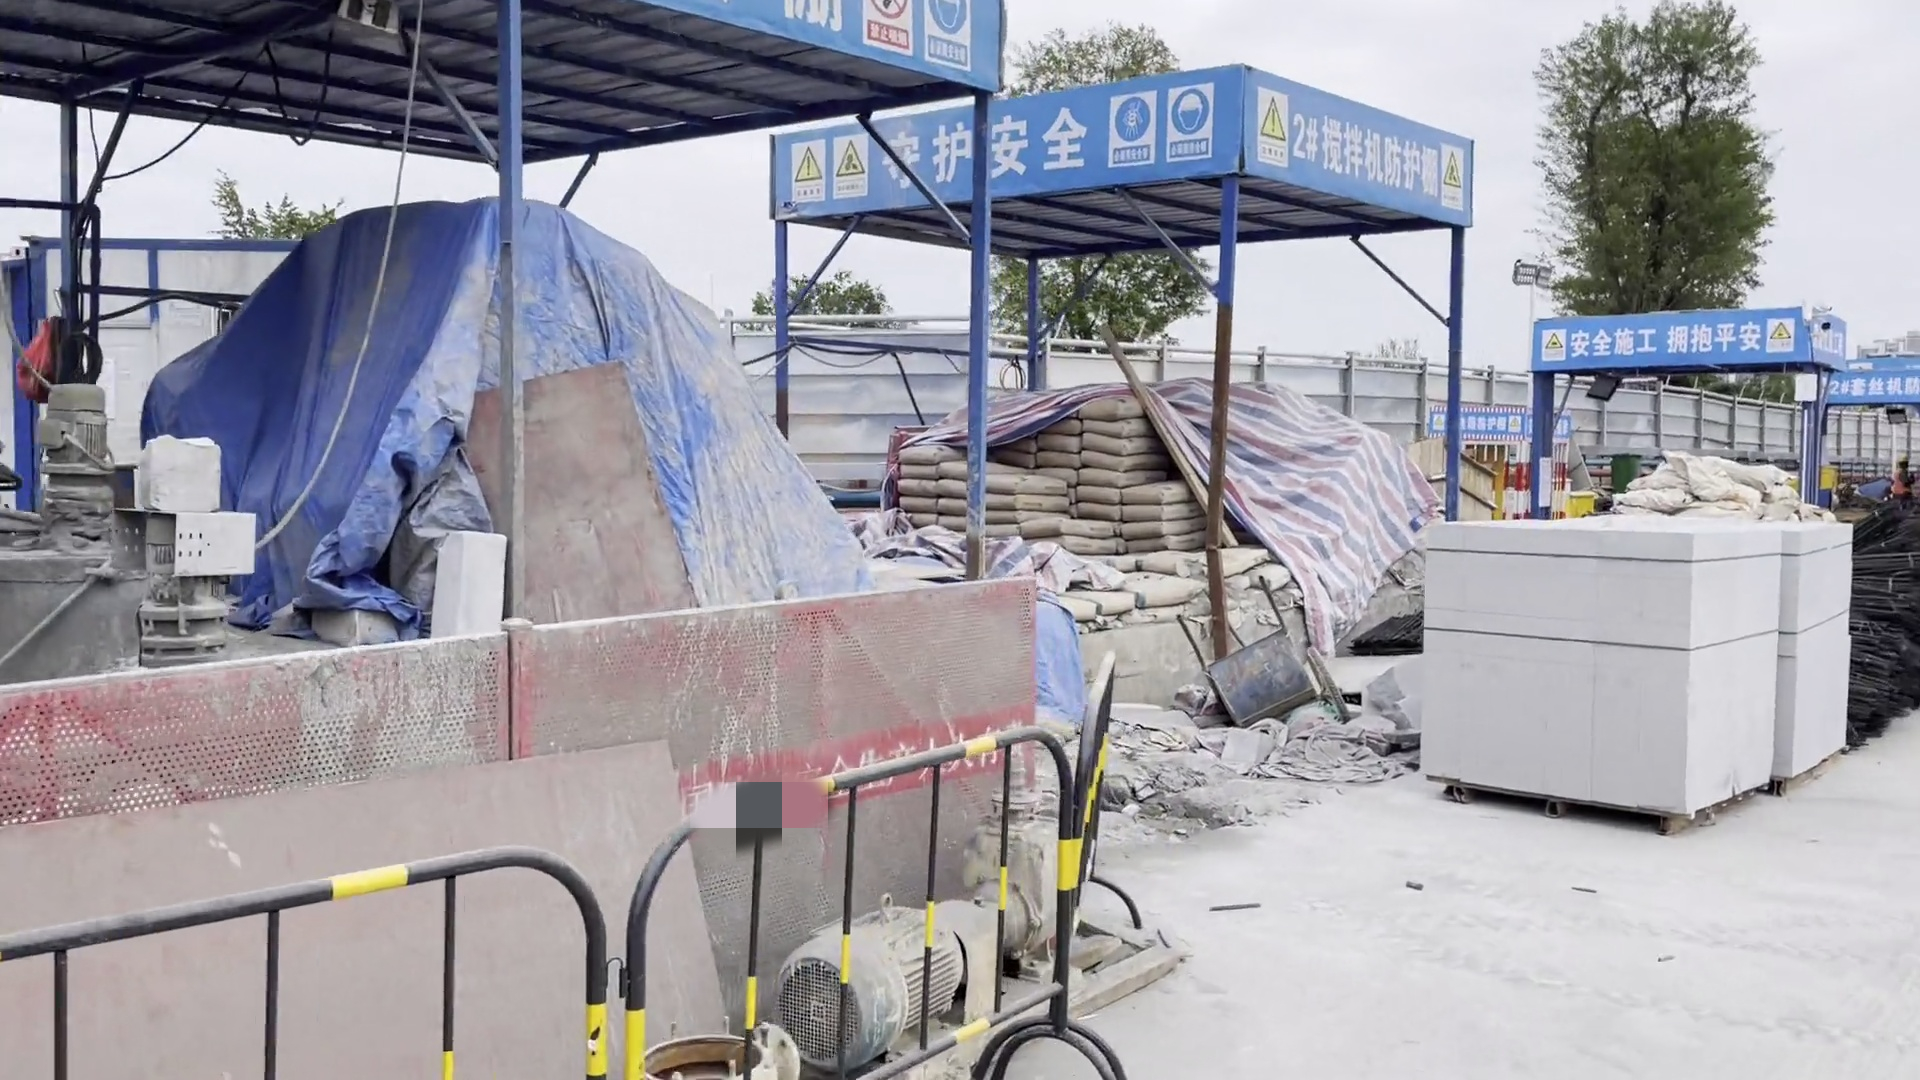brick: (1420, 480, 1853, 831)
slogan: (877, 94, 1088, 195), (1571, 323, 1766, 357)
